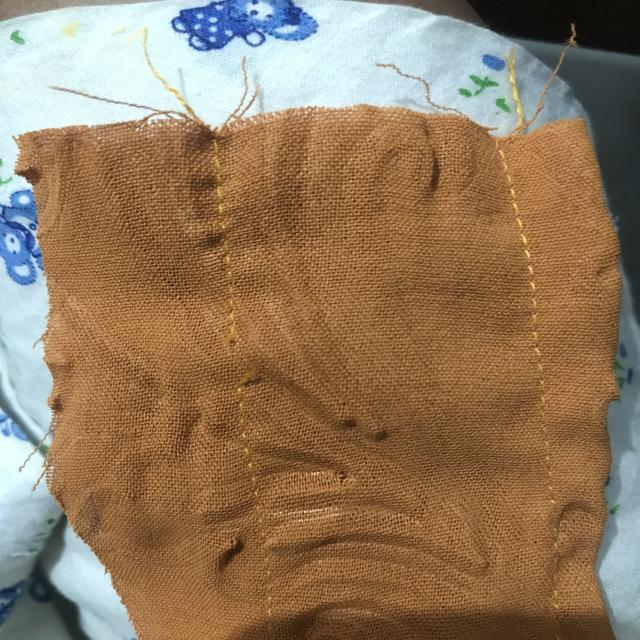broken: (201, 313, 271, 397)
good: (500, 244, 556, 334)
